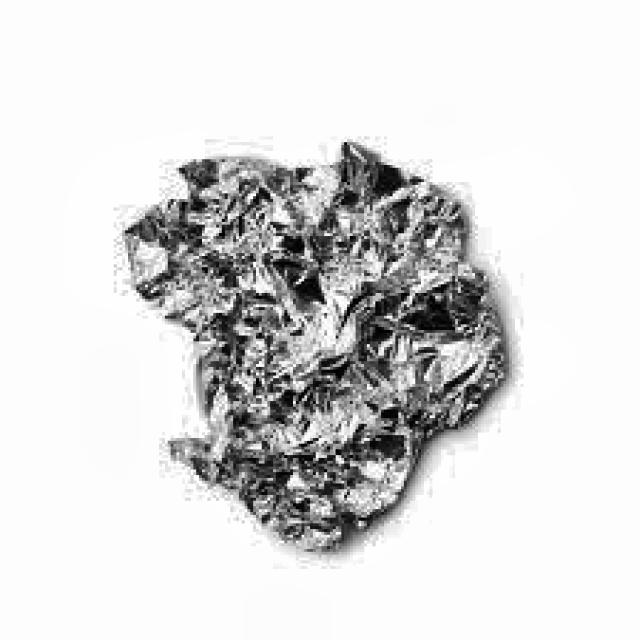Foil: (108, 132, 572, 567)
